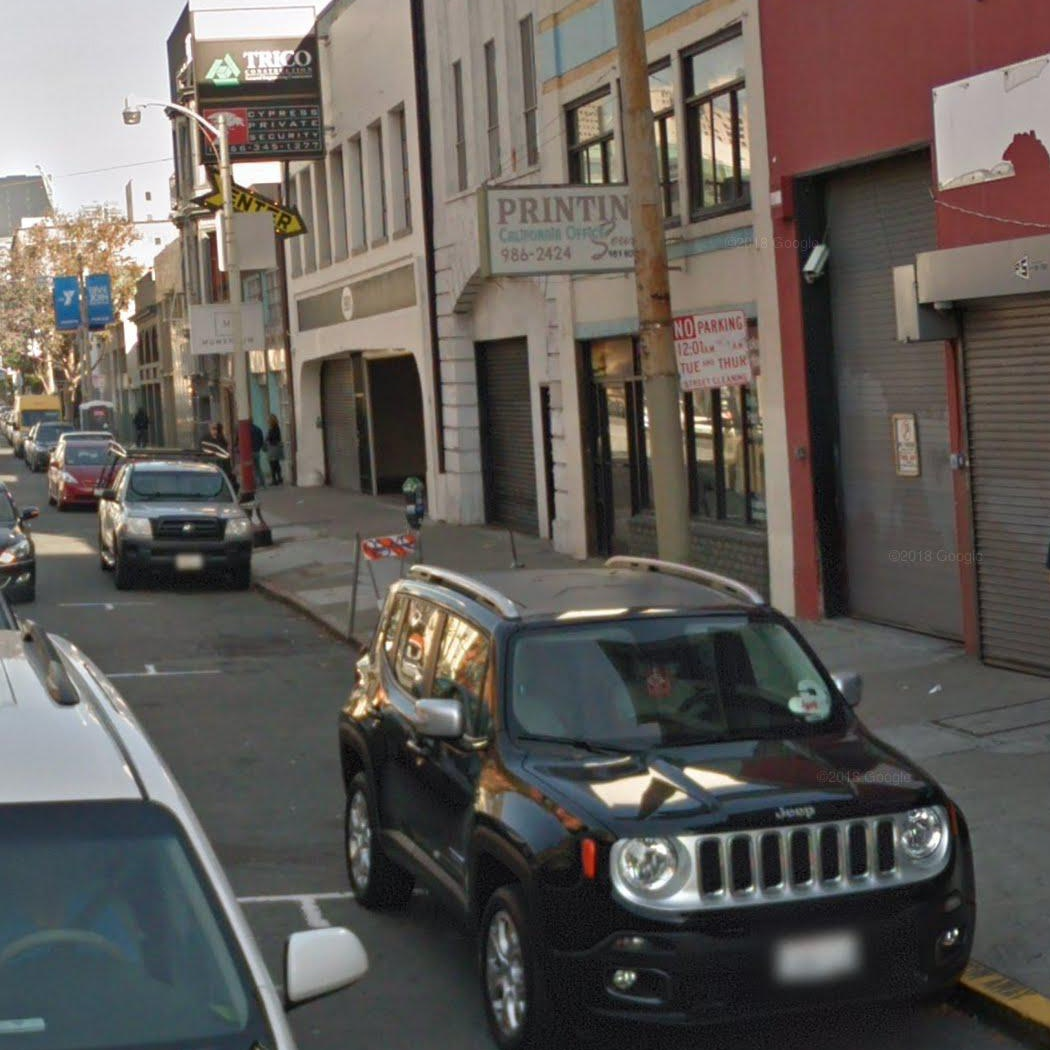No Parking: (670, 305, 757, 397)
